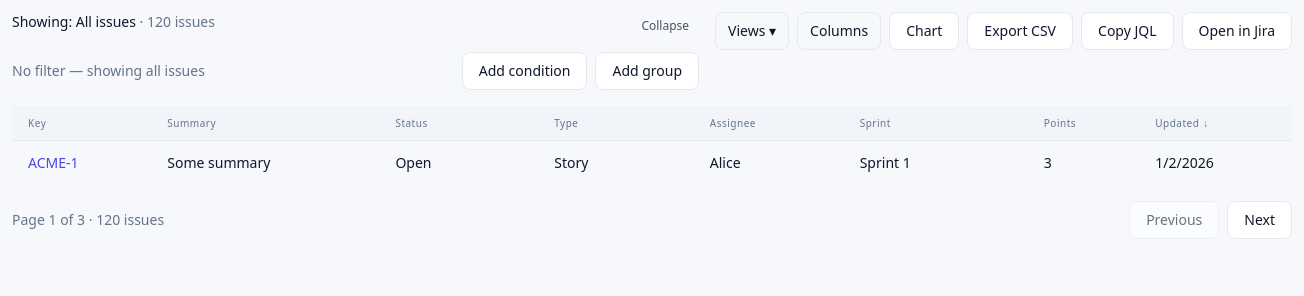
Test case: IssueList › keeps the previous results on screen when the server rejects a filter
This screenshot has width=1304, height=296.
Expected: the link "ACME-1" is shown, [28, 153, 78, 172]
Step 1. Click the button "Next" → (1260, 220), box [1227, 201, 1292, 239]
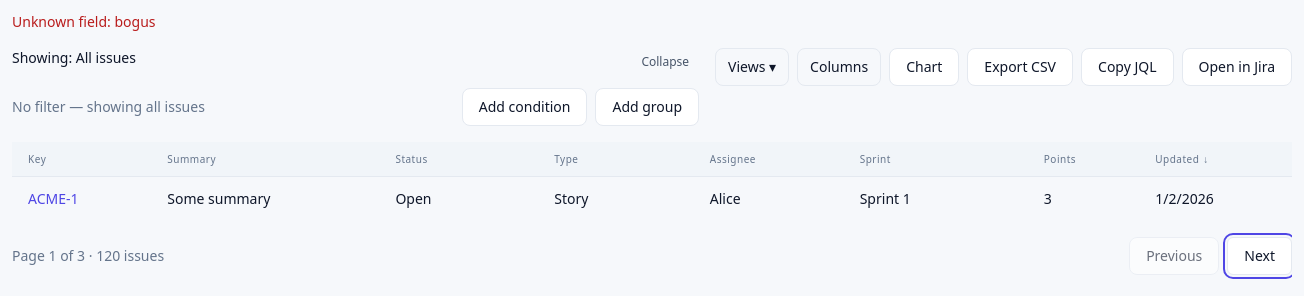
Expected: the link "ACME-1" is shown, [28, 189, 78, 208]
Expected: the message shows "Unknown field", [12, 12, 156, 31]
